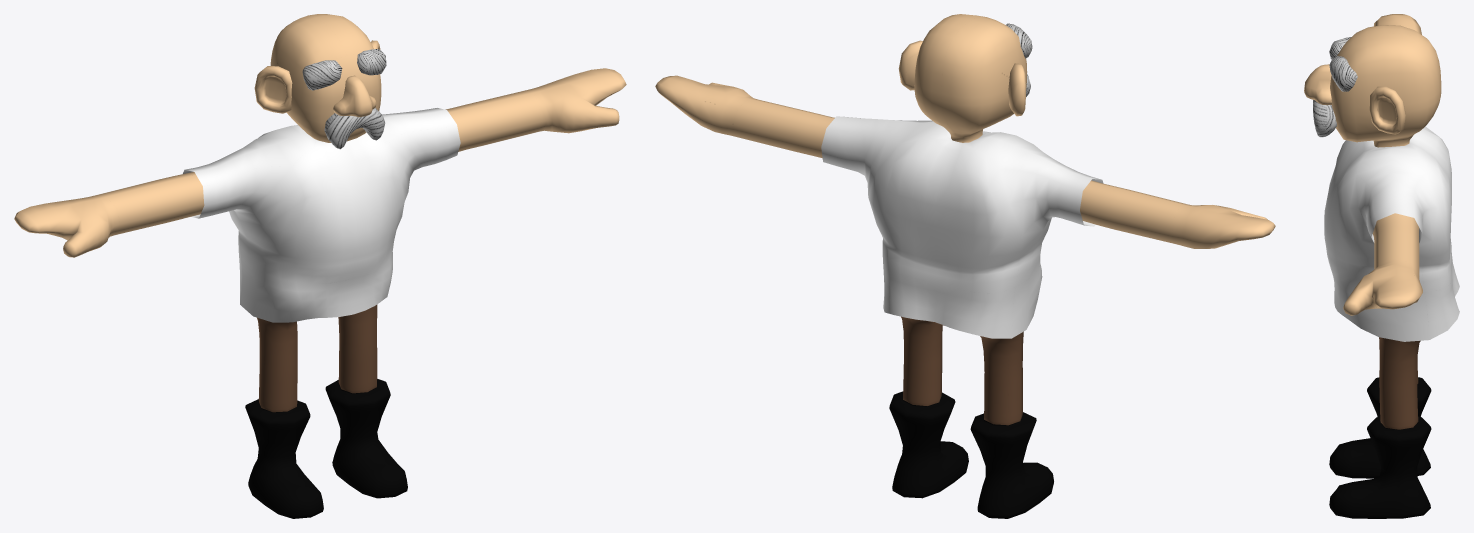
File: doctor.fbx
The picture shows the model from 3 angles, left to right: view 1: azimuth 30°, elevation 25°; view 2: azimuth 150°, elevation 25°; view 3: azimuth 270°, elevation 25°; orthographic projection. The views are drawn at different scales.
Visible parts, largest first — view 1: PersonajeMalla; view 2: PersonajeMalla; view 3: PersonajeMalla.
Boxes of the visible parts, x1,y1,x2,y2 form: PersonajeMalla: [14, 14, 626, 518]; PersonajeMalla: [655, 14, 1275, 518]; PersonajeMalla: [1304, 14, 1459, 518].
Bounding box in the file's own units: 987 × 725 × 225.
Materials: 1 (1 with a texture image).
